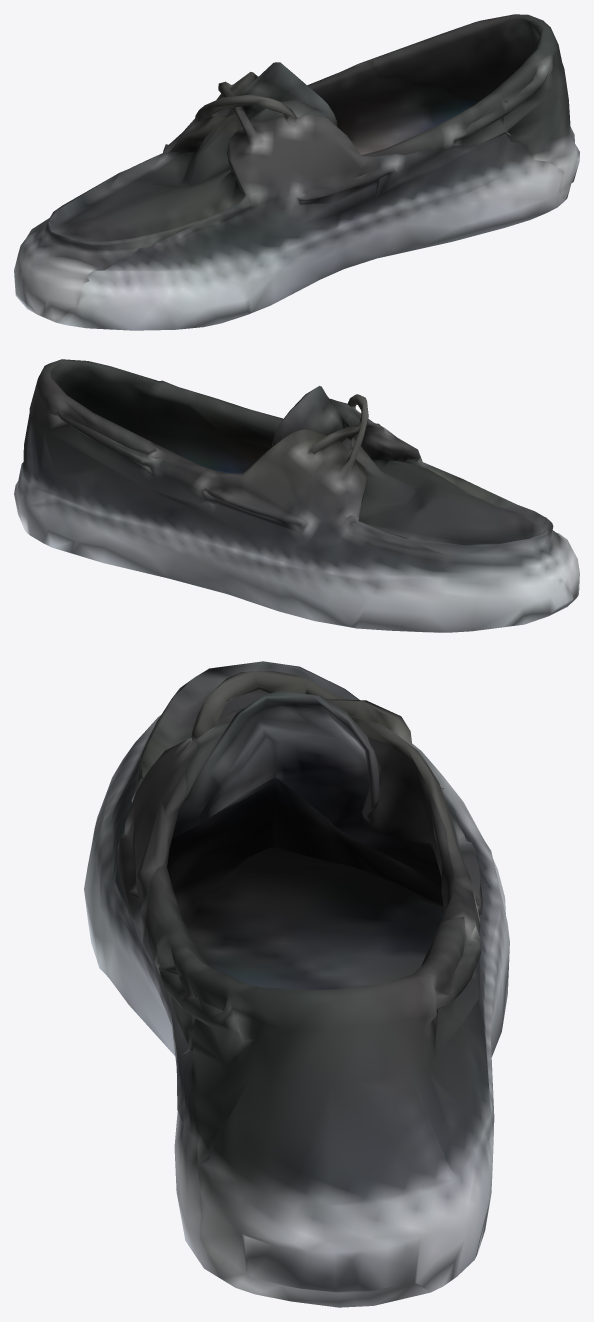
The model's file is Womens_Suede_Bahama_in_Graphite_Suede_cUAjIMhWSO9-medium.glb.
3 views of the same model, one above another, from view 1: azimuth 30°, elevation 25°; view 2: azimuth 150°, elevation 25°; view 3: azimuth 270°, elevation 25° (orthographic). The views are drawn at different scales.
Visible parts, largest first — view 1: Womens_Suede_Bahama_in_Graphite_Suede_cUAjIMhWSO9; view 2: Womens_Suede_Bahama_in_Graphite_Suede_cUAjIMhWSO9; view 3: Womens_Suede_Bahama_in_Graphite_Suede_cUAjIMhWSO9.
Part boxes in pixels (bbox=[...]): Womens_Suede_Bahama_in_Graphite_Suede_cUAjIMhWSO9: bbox=[14, 14, 579, 330]; Womens_Suede_Bahama_in_Graphite_Suede_cUAjIMhWSO9: bbox=[14, 359, 579, 632]; Womens_Suede_Bahama_in_Graphite_Suede_cUAjIMhWSO9: bbox=[84, 661, 509, 1307].
Size of the model in its own units: 0.255 by 0.084 by 0.0892.
Materials: 1 (1 with a texture image).
